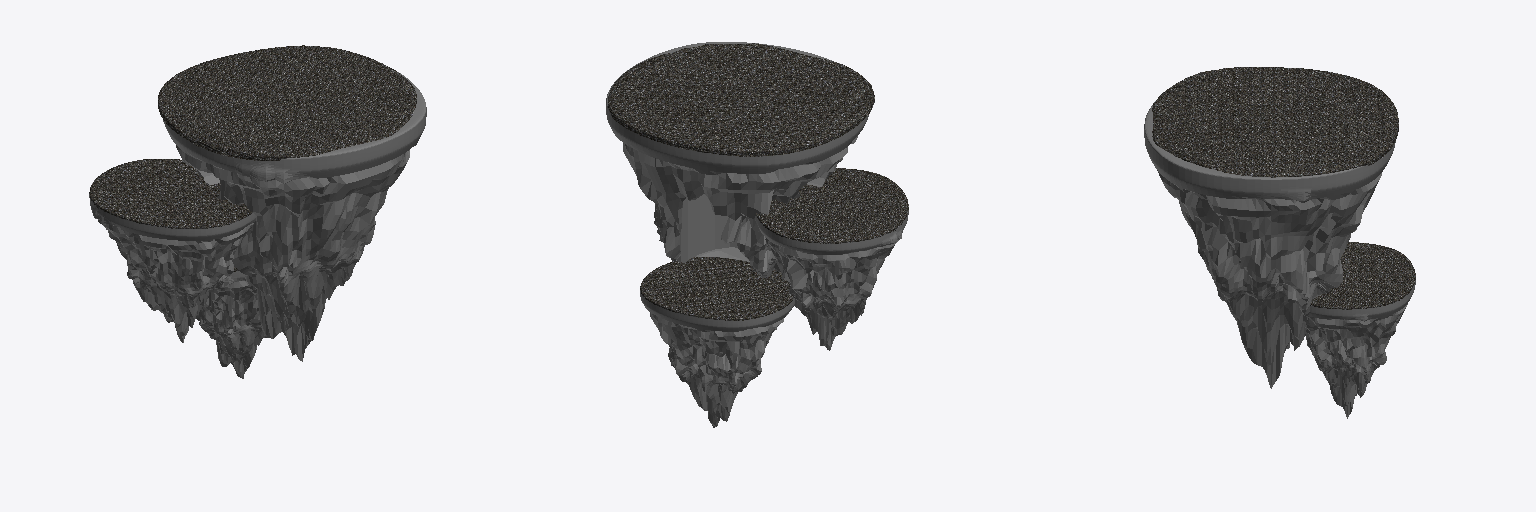
The picture shows the model from 3 angles: view 1: azimuth 30°, elevation 25°; view 2: azimuth 150°, elevation 25°; view 3: azimuth 270°, elevation 25°; orthographic projection.
Parts seen in each view (by area): view 1: island001, grass001, island003, grass002, island005; view 2: grass001, island001, island005, island003, grass002, grass003; view 3: island001, grass001, island005, grass003.
Part boxes in pixels (x1,y1,x2,y2): island001: (163,72,426,361); grass001: (158,45,416,160); island003: (89,194,255,342); grass002: (89,159,252,228); island005: (196,271,266,378); grass001: (608,43,874,156); island001: (606,42,868,277); island005: (640,291,794,427); island003: (755,210,908,350); grass002: (756,168,908,243); grass003: (640,257,794,320); island001: (1144,102,1395,388); grass001: (1152,67,1398,177); island005: (1301,280,1415,418); grass003: (1310,242,1415,309).
Bounding box in the file's own units: 61.24 × 61.64 × 49.6.
6 materials, 1 textured.